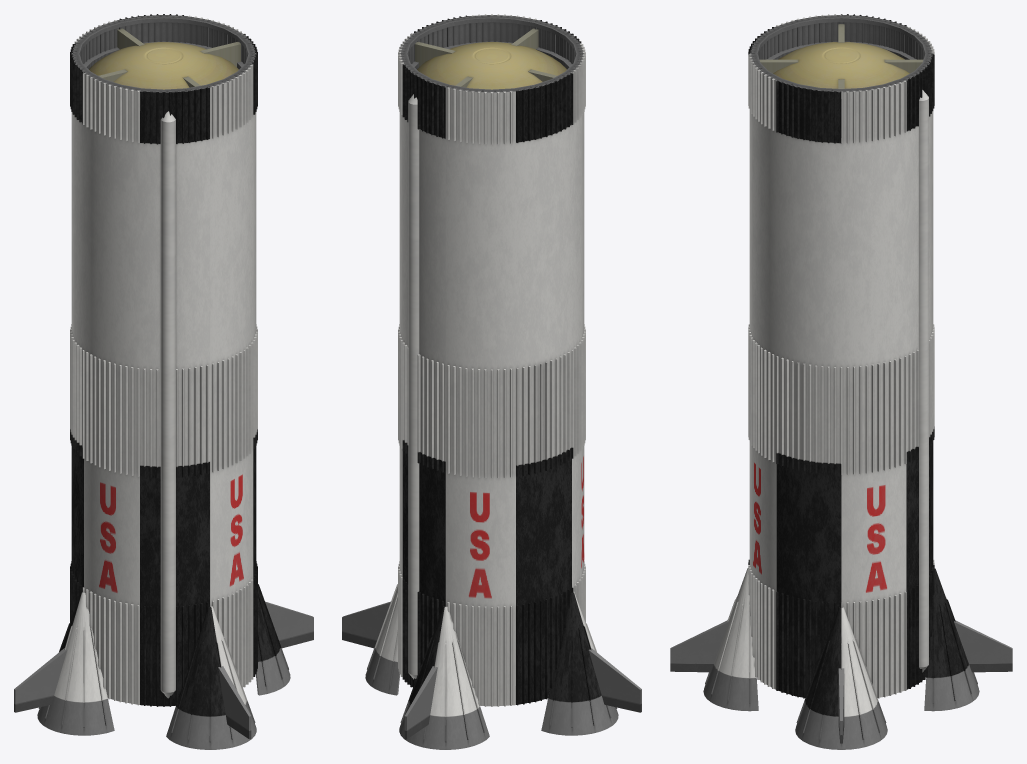
The model's file is ksprocket.fbx.
The picture shows the model from 3 angles, left to right: view 1: azimuth 30°, elevation 25°; view 2: azimuth 150°, elevation 25°; view 3: azimuth 270°, elevation 25°; orthographic projection.
Parts seen in each view (by area): view 1: tank.008, bits.006, fairing.003; view 2: tank.008, fairing.003, bits.006; view 3: tank.008, fairing.003, bits.006.
Part boxes in pixels (x1=…): tank.008: x1=70, y1=14, x2=257, y2=706; bits.006: x1=71, y1=15, x2=256, y2=698; fairing.003: x1=14, y1=584, x2=313, y2=749; tank.008: x1=398, y1=14, x2=585, y2=706; fairing.003: x1=342, y1=584, x2=641, y2=749; bits.006: x1=399, y1=15, x2=584, y2=679; tank.008: x1=748, y1=14, x2=934, y2=698; fairing.003: x1=670, y1=568, x2=1012, y2=749; bits.006: x1=750, y1=15, x2=932, y2=672.
Bounding box in the file's own units: 1885 × 3876 × 1885.
